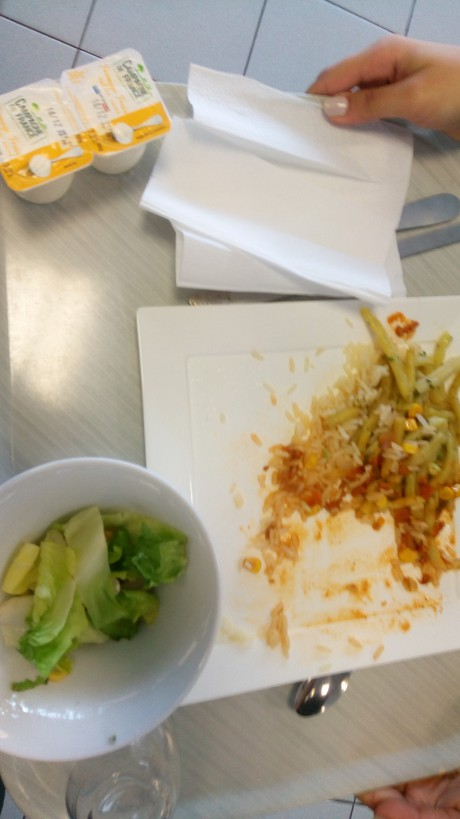orga: (247, 307, 458, 599), (5, 499, 197, 714)
trash: (164, 76, 427, 309), (3, 33, 169, 220)
